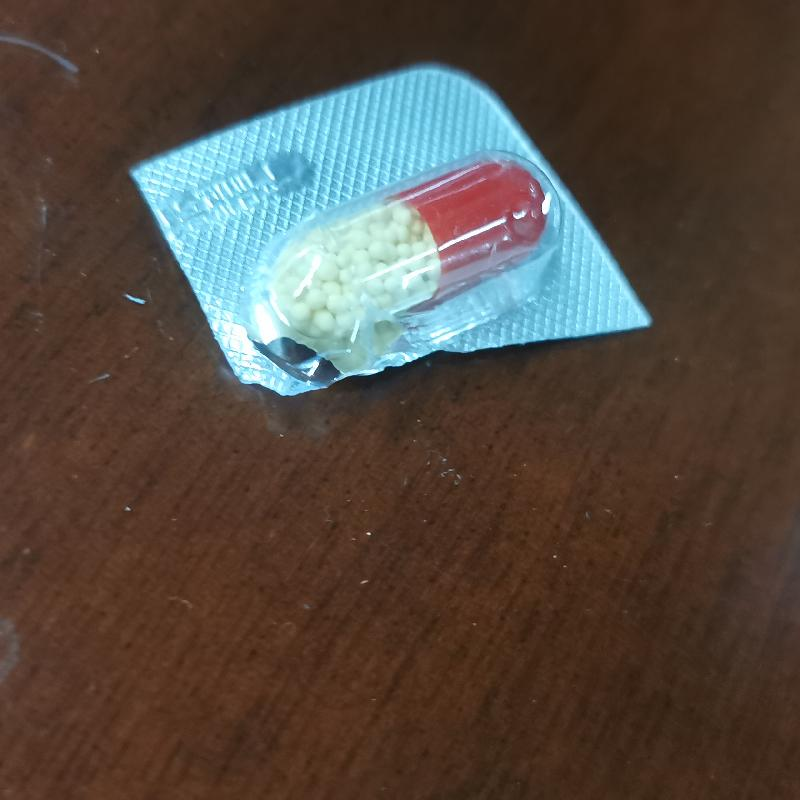pills: (273, 152, 560, 345)
